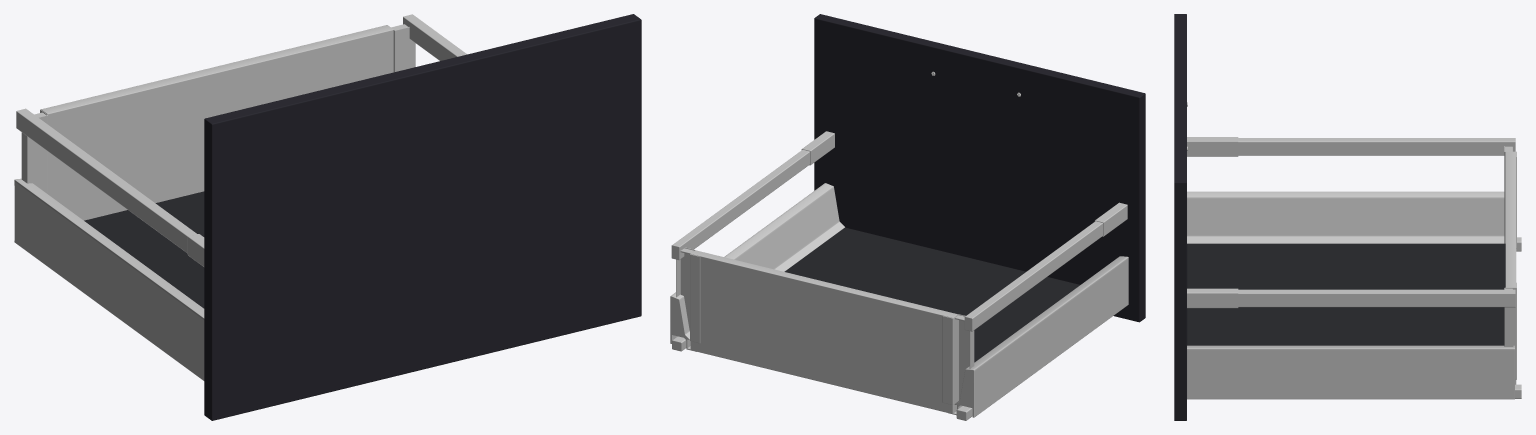
Rendered from SM_Kitchen_01_Drawer_02.dae.
The picture shows the model from 3 angles, left to right: view 1: azimuth 30°, elevation 25°; view 2: azimuth 150°, elevation 25°; view 3: azimuth 270°, elevation 25°; orthographic projection. The views are drawn at different scales.
Visible parts, largest first — view 1: SM_Kitchen_01_Drawer_02; view 2: SM_Kitchen_01_Drawer_02; view 3: SM_Kitchen_01_Drawer_02.
Boxes of the visible parts, x1=… form: SM_Kitchen_01_Drawer_02: x1=14, y1=14, x2=641, y2=420; SM_Kitchen_01_Drawer_02: x1=670, y1=14, x2=1145, y2=420; SM_Kitchen_01_Drawer_02: x1=1174, y1=14, x2=1521, y2=420.
Size of the model in its own units: 0.5969 by 0.5199 by 0.3943.
